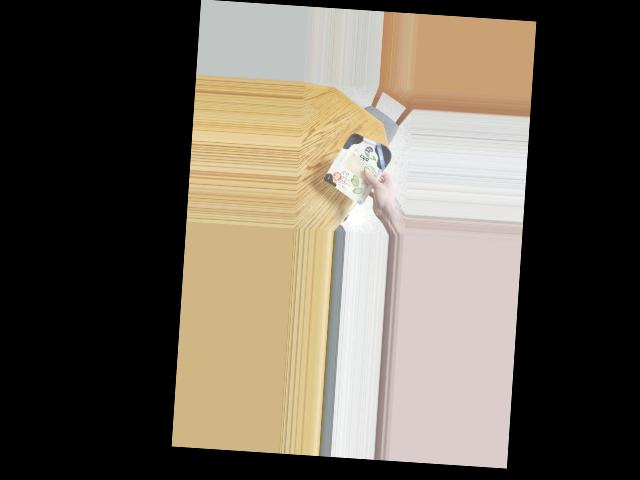cheese: (327, 133, 391, 198)
